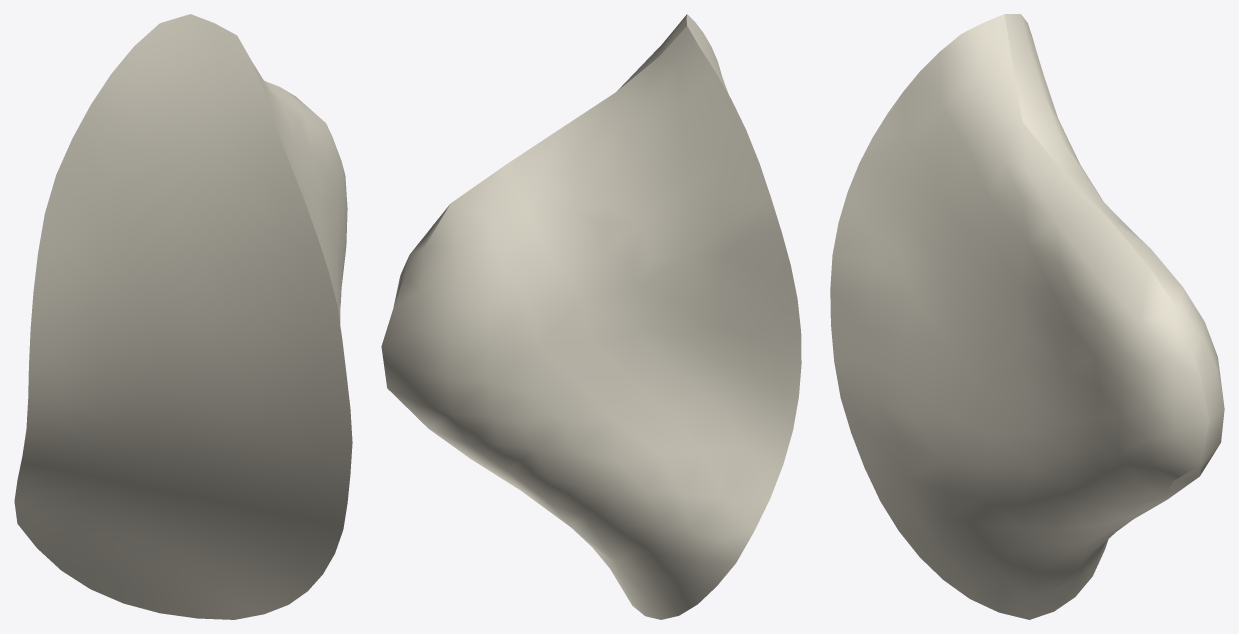
Rendered from fma17030_mm1608m.glb.
3 views of the same model, side by side, from view 1: azimuth 30°, elevation 25°; view 2: azimuth 150°, elevation 25°; view 3: azimuth 270°, elevation 25° (orthographic). The views are drawn at different scales.
Parts seen in each view (by area): view 1: FMA17030_MM1608M; view 2: FMA17030_MM1608M; view 3: FMA17030_MM1608M.
Boxes of the visible parts, bbox=[...] form: FMA17030_MM1608M: bbox=[14, 14, 352, 619]; FMA17030_MM1608M: bbox=[381, 14, 801, 619]; FMA17030_MM1608M: bbox=[830, 14, 1224, 619].
Size of the model in its own units: 0.0143 by 0.0227 by 0.0139.
